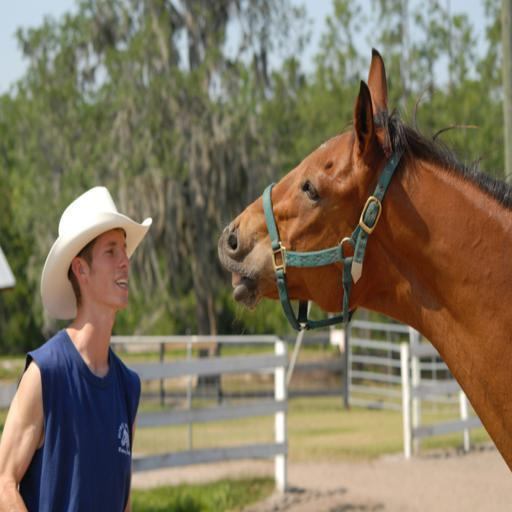horse: (214, 46, 512, 472)
